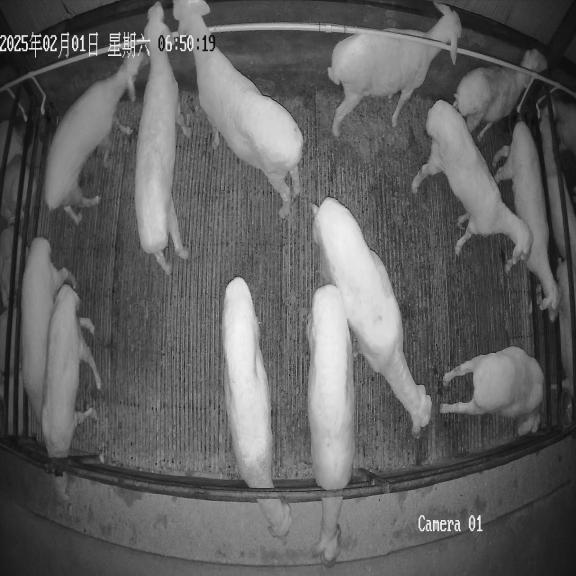eating: (222, 277, 291, 538), (307, 285, 354, 564), (42, 284, 101, 501)
stand: (311, 197, 432, 438), (173, 0, 303, 218), (412, 100, 531, 266), (44, 52, 150, 223), (328, 0, 461, 136), (134, 2, 189, 274), (493, 119, 560, 321), (440, 346, 544, 435), (453, 49, 547, 138), (21, 238, 64, 421)
